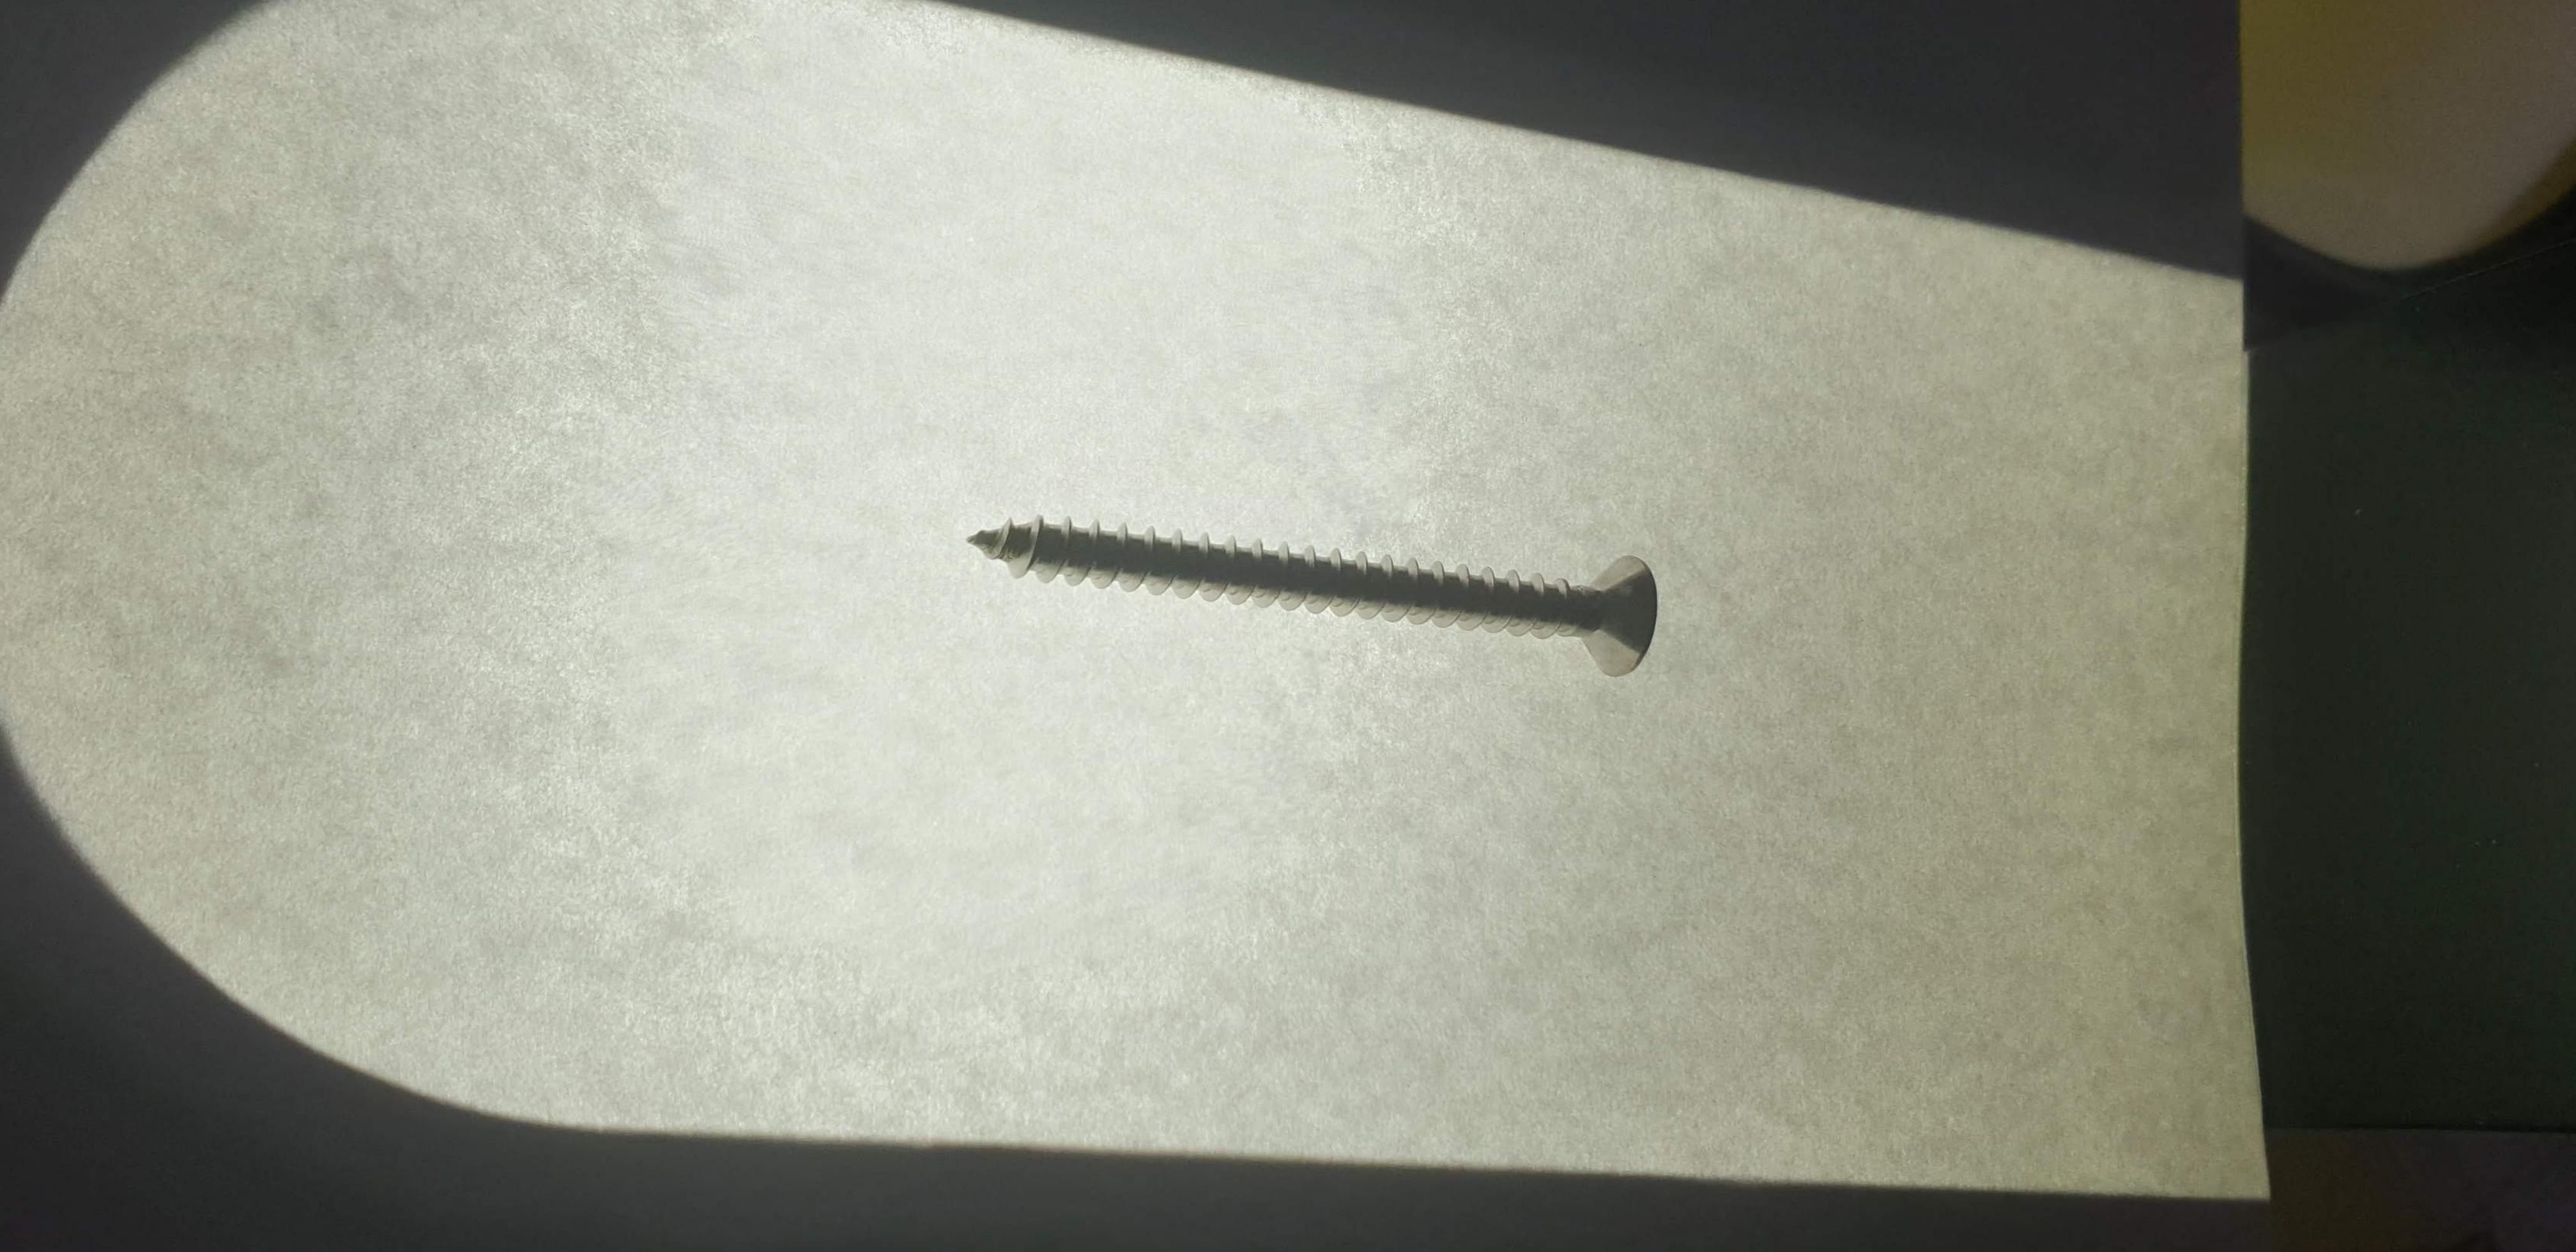S001: (946, 470, 1686, 692)
